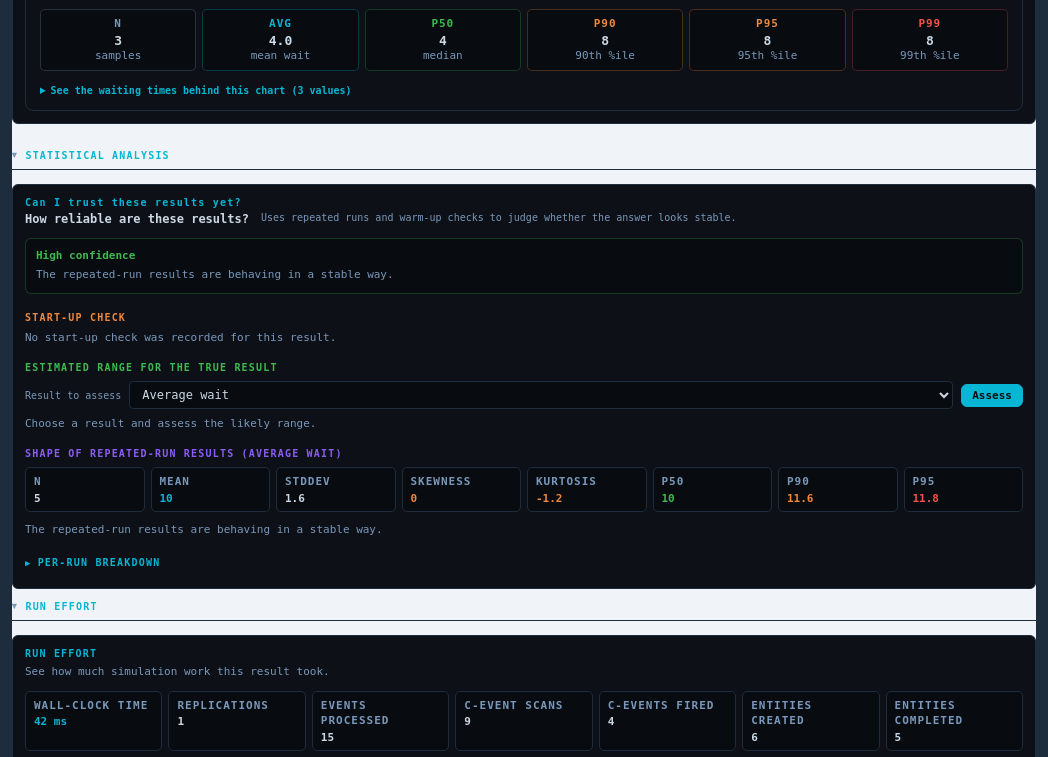
Test: ResultsWorkspace › computes batch-means and shows distribution diagnostics in Results
(page scrolled)
Click the button "Assess" at x=992, y=395, box [961,384,1023,407]
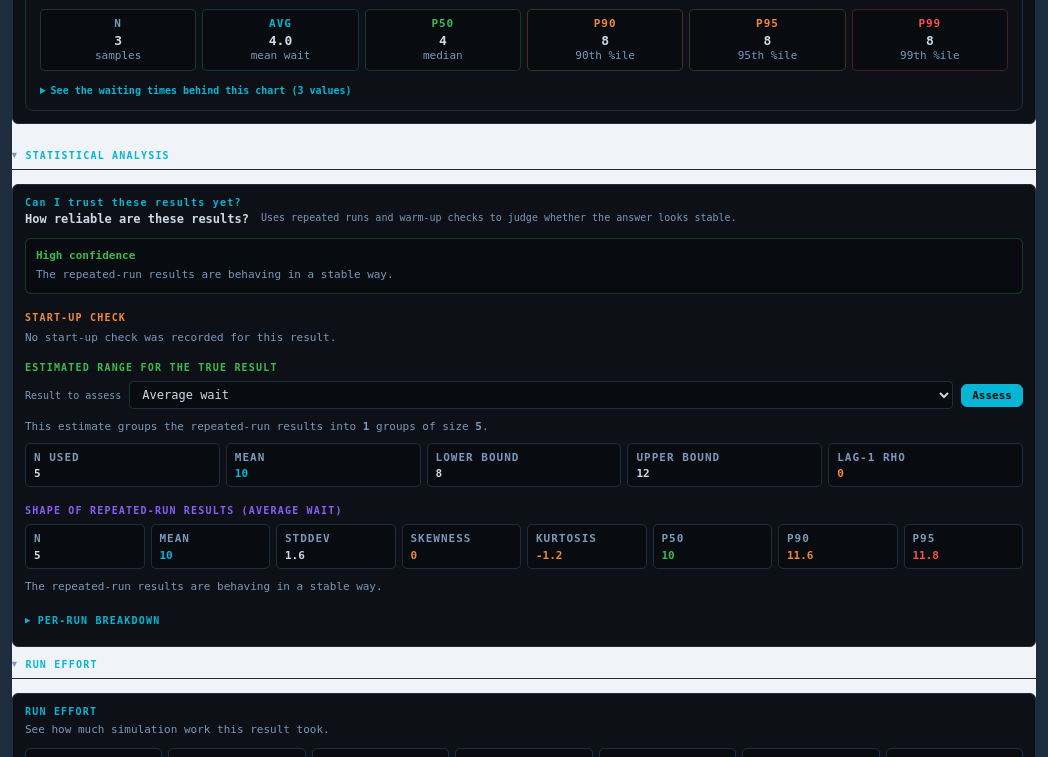
Check: the text "SHAPE OF REPEATED-RUN RESULTS (AVERAGE WAIT)" is shown, box [25,506,343,516]
Check: the text "LOWER BOUND" is shown, box [436,451,520,464]
Check: the text "UPPER BOUND" is shown, box [636,451,720,464]
